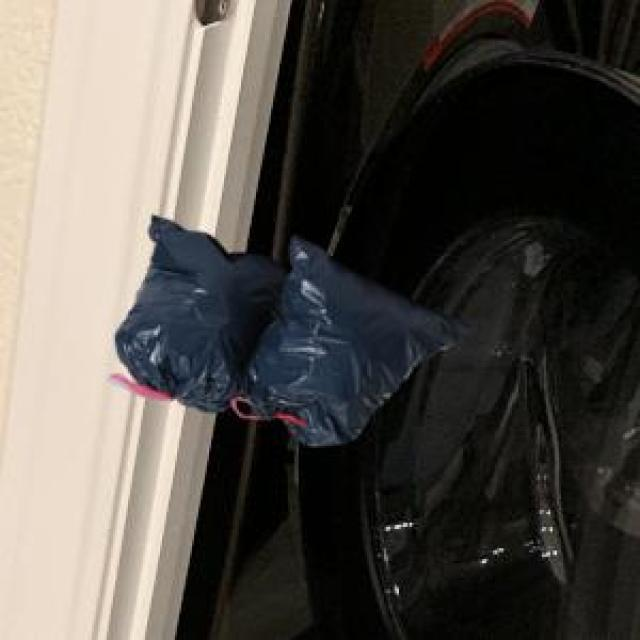miscellaneous trash: (105, 211, 467, 442)
